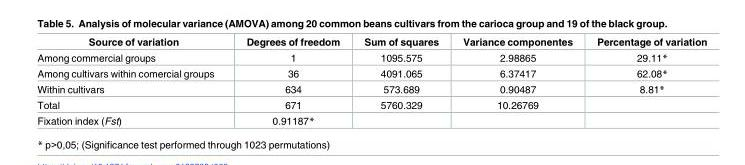table: (36, 37, 706, 126)
table column: (36, 37, 229, 126), (450, 37, 584, 126), (229, 37, 351, 126), (584, 37, 706, 126), (351, 37, 450, 126)
table column header: (36, 37, 706, 49)
table row: (36, 80, 706, 97), (36, 49, 706, 65), (36, 65, 706, 80), (36, 97, 706, 112), (36, 112, 706, 126), (36, 37, 706, 49)
